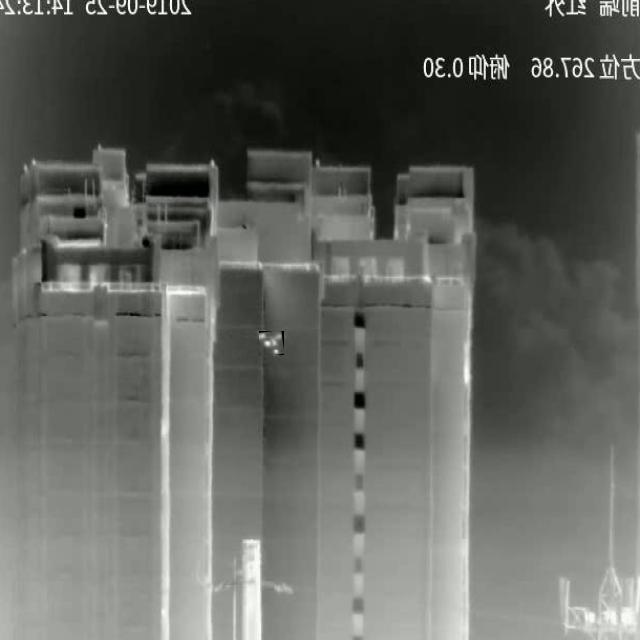drone: (259, 333, 283, 355)
